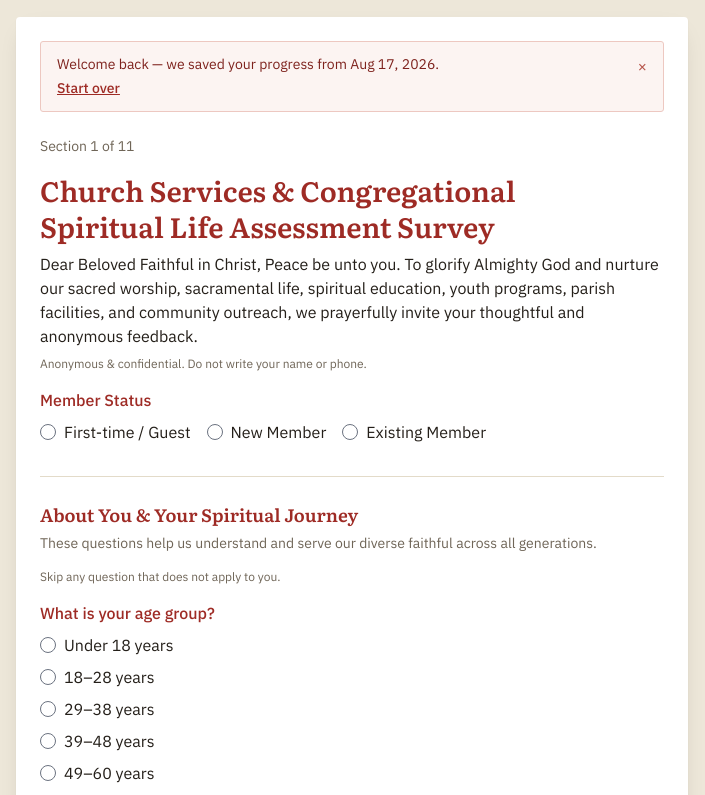
Test: SurveyPage › returning to a saved draft › dismissing the banner hides it without touching the restored answers
Click the button named "Dismiss": (642, 66) left=637, top=54, right=647, bottom=78
(page scrolled)
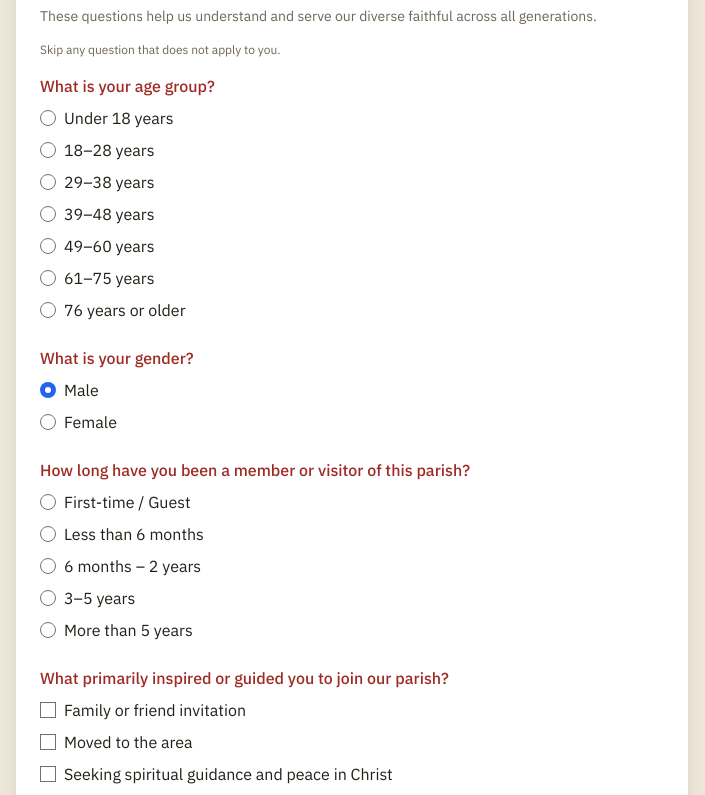
Expected: the radio button labelled "Male" is checked, left=40, top=382, right=56, bottom=398
Now the text "Welcome back" is gone
